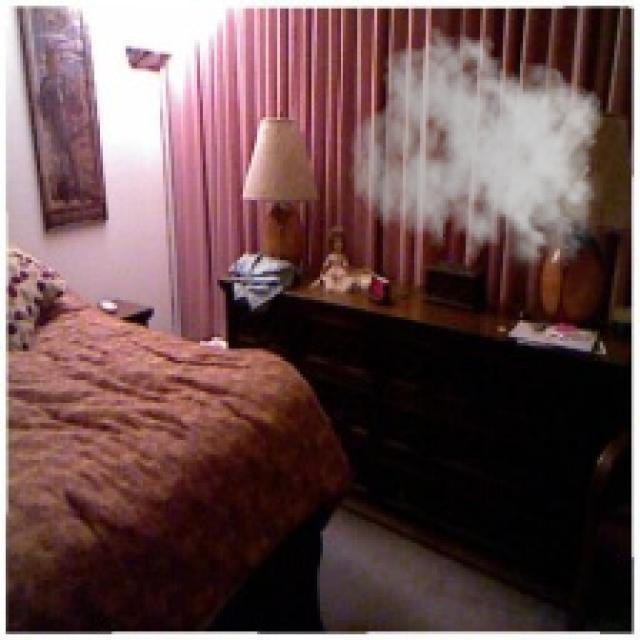Smoke: (348, 26, 612, 280)
